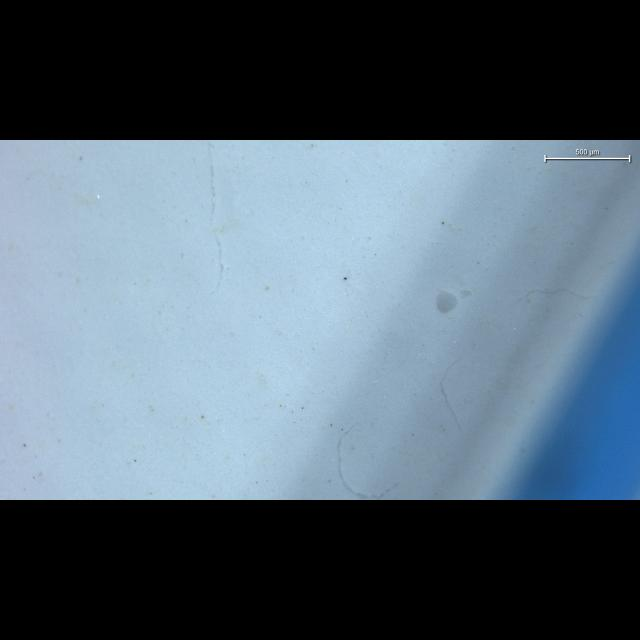Fibre: (337, 422, 400, 499), (440, 360, 462, 432)
Fragment: (437, 291, 457, 313)
